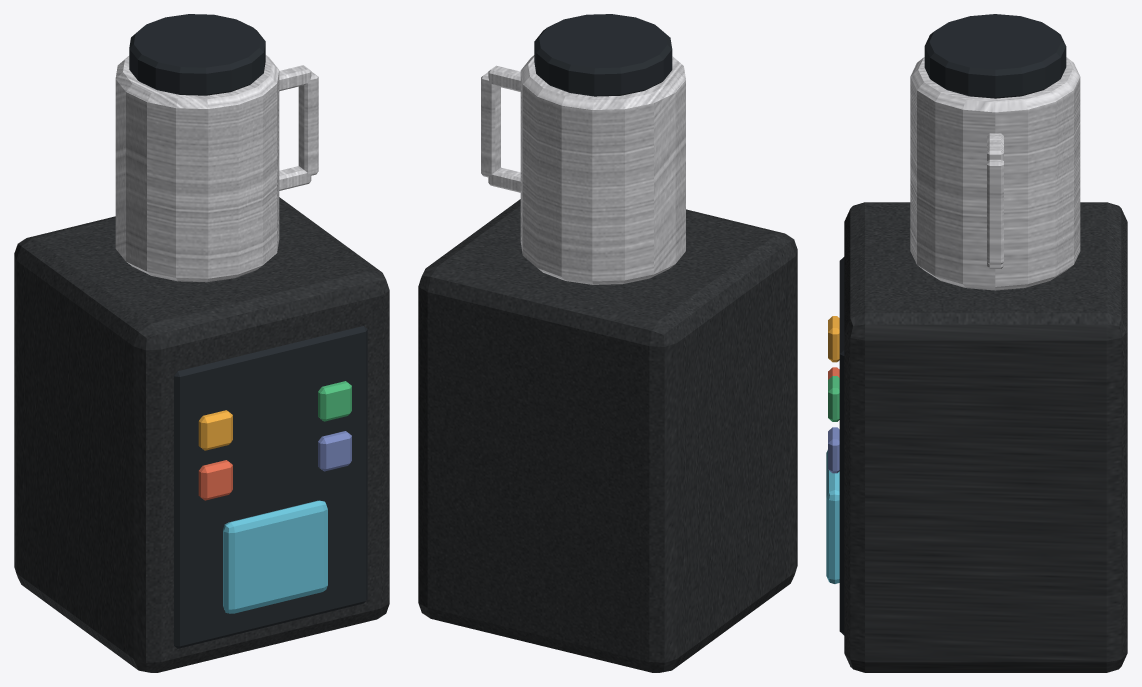
Rendered from 06_Cafetera_Oficina.obj.
The picture shows the model from 3 angles, left to right: view 1: azimuth 30°, elevation 25°; view 2: azimuth 150°, elevation 25°; view 3: azimuth 270°, elevation 25°; orthographic projection. The views are drawn at different scales.
Parts seen in each view (by area): view 1: 06_Cafetera_Oficina; view 2: 06_Cafetera_Oficina; view 3: 06_Cafetera_Oficina.
Part boxes in pixels (box(x1,y1,x2,y2)): 06_Cafetera_Oficina: box(14, 14, 389, 672); 06_Cafetera_Oficina: box(418, 14, 797, 672); 06_Cafetera_Oficina: box(826, 14, 1127, 672).
Size of the model in its own units: 0.32 by 0.6725 by 0.319.
